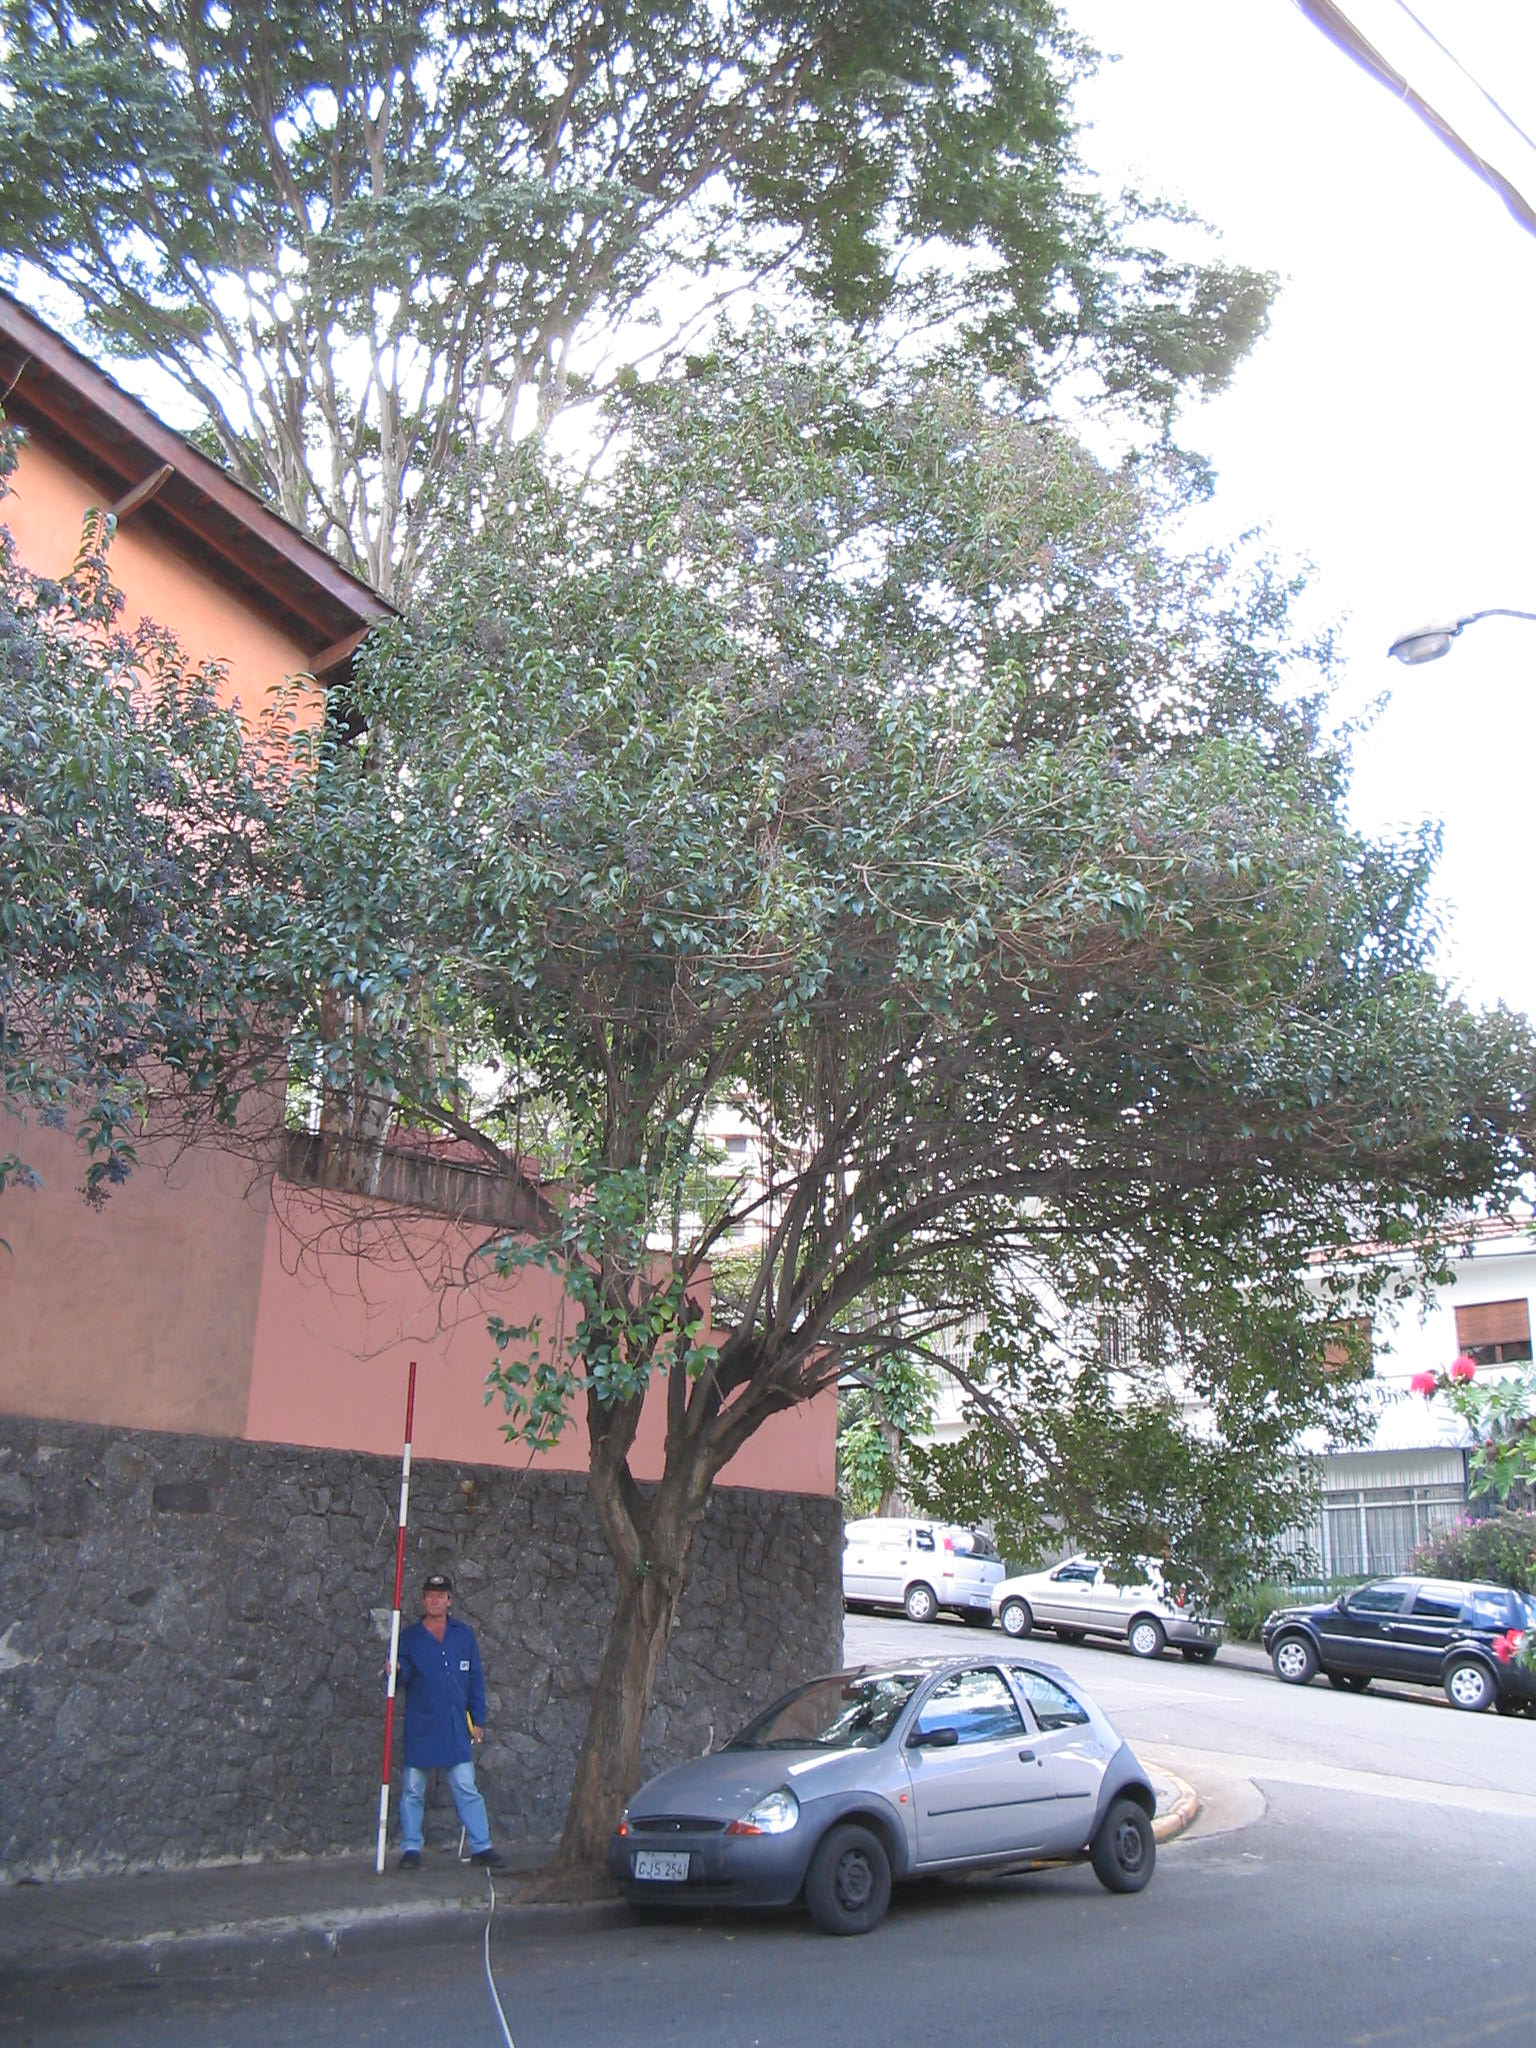crown: (236, 313, 1521, 1474)
stem: (528, 1561, 694, 1879)
stick: (344, 1363, 442, 1872)
tree: (224, 308, 1528, 1890)
